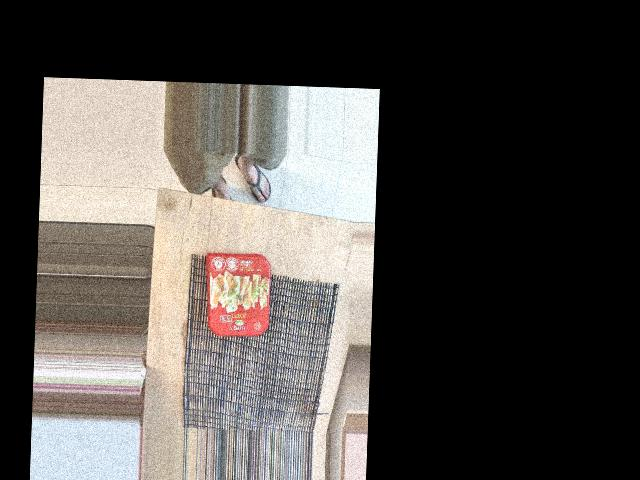cheese: (175, 235, 281, 342)
